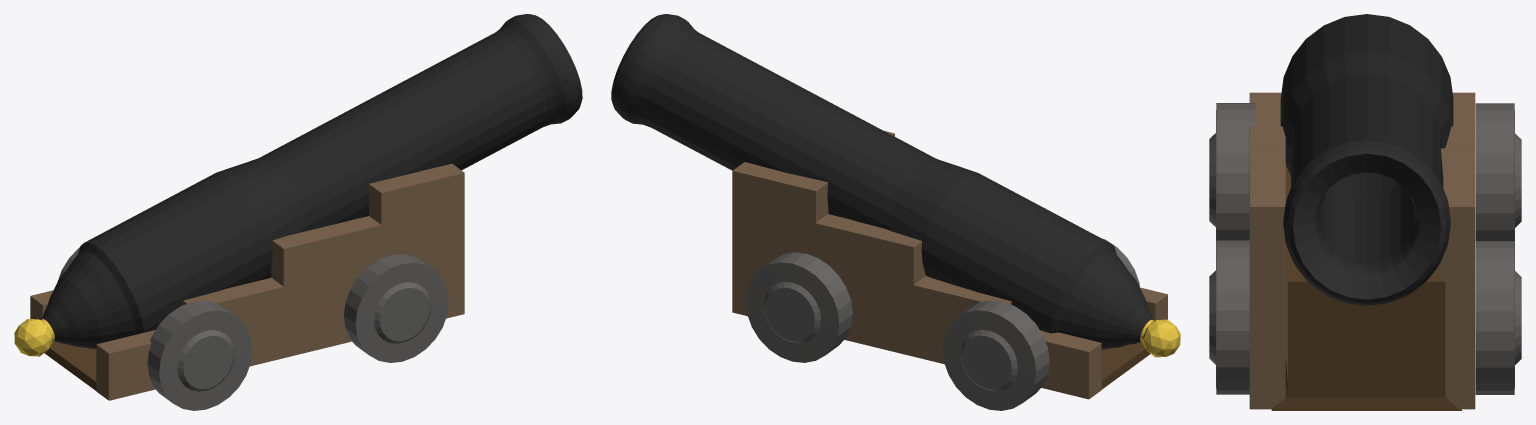
The model's file is Cannon.fbx.
3 renders of one model, left to right at view 1: azimuth 30°, elevation 25°; view 2: azimuth 150°, elevation 25°; view 3: azimuth 270°, elevation 25°, orthographic. The views are drawn at different scales.
Parts seen in each view (by area): view 1: CannonBody, CannonSupports, CannonWheels, Base; view 2: CannonBody, CannonSupports, CannonWheels, Base; view 3: CannonBody, CannonWheels, CannonSupports, Base.
Boxes of the visible parts, bbox=[...] form: CannonBody: bbox=[14, 14, 582, 356]; CannonSupports: bbox=[30, 163, 464, 400]; CannonWheels: bbox=[57, 247, 448, 410]; Base: bbox=[44, 341, 96, 390]; CannonBody: bbox=[611, 14, 1180, 357]; CannonSupports: bbox=[732, 131, 1167, 399]; CannonWheels: bbox=[745, 238, 1139, 410]; Base: bbox=[1101, 342, 1150, 389]; CannonBody: bbox=[1280, 14, 1453, 305]; CannonWheels: bbox=[1209, 103, 1521, 394]; CannonSupports: bbox=[1249, 92, 1475, 409]; Base: bbox=[1271, 165, 1461, 410].
Size of what is drawn, in the model's own units: 389 by 176 by 134.
